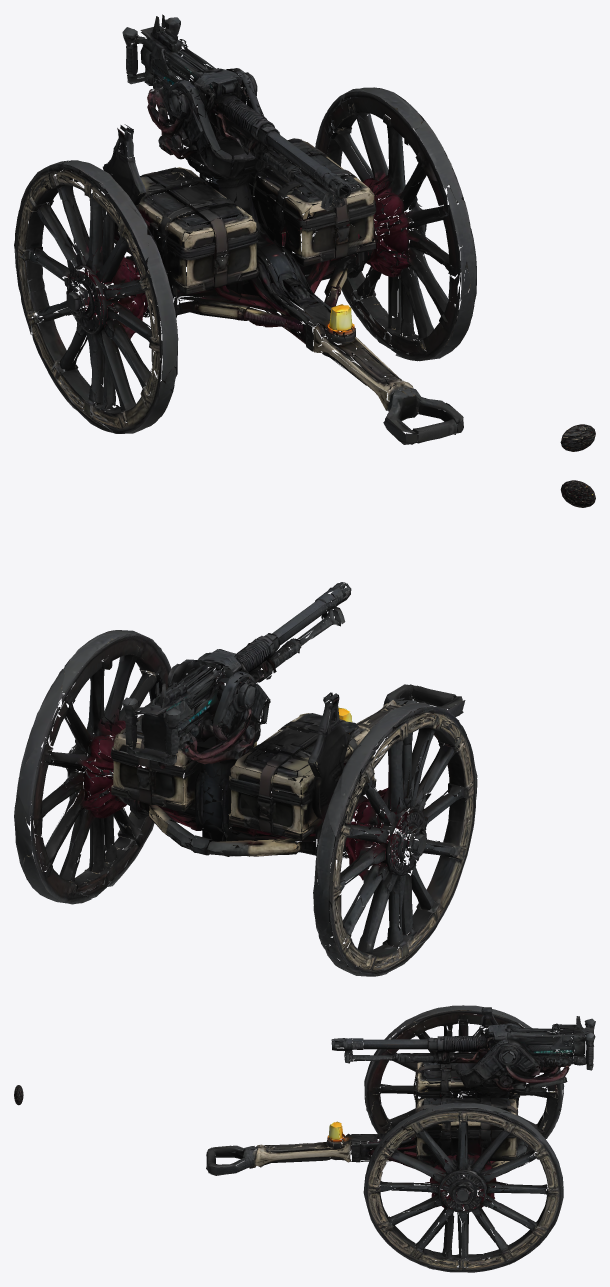
File: vesper_robbed_armory_shadowboard.glb
3 views of the same model, one above another, from view 1: azimuth 30°, elevation 25°; view 2: azimuth 150°, elevation 25°; view 3: azimuth 270°, elevation 25° (orthographic). The views are drawn at different scales.
Parts seen in each view (by area): view 1: node_0, HB_PULSE_00; view 2: node_0, HB_PULSE_00; view 3: node_0.
Part boxes in pixels (box(x1,y1,x2,y2)): node_0: box(14, 14, 476, 444); HB_PULSE_00: box(560, 424, 595, 451); node_0: box(14, 582, 477, 976); HB_PULSE_00: box(560, 480, 595, 507); node_0: box(206, 1005, 595, 1272).
Bounding box in the file's own units: 0.7433 × 0.6188 × 1.59.
1 material, 1 textured.
